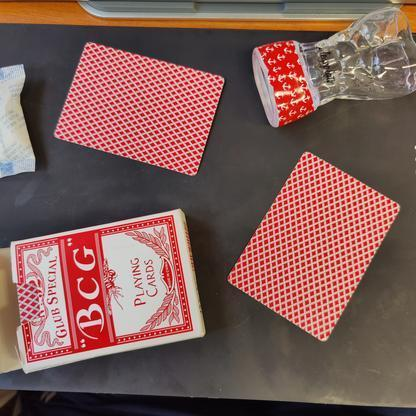card: (224, 142, 410, 352), (46, 36, 233, 183)
